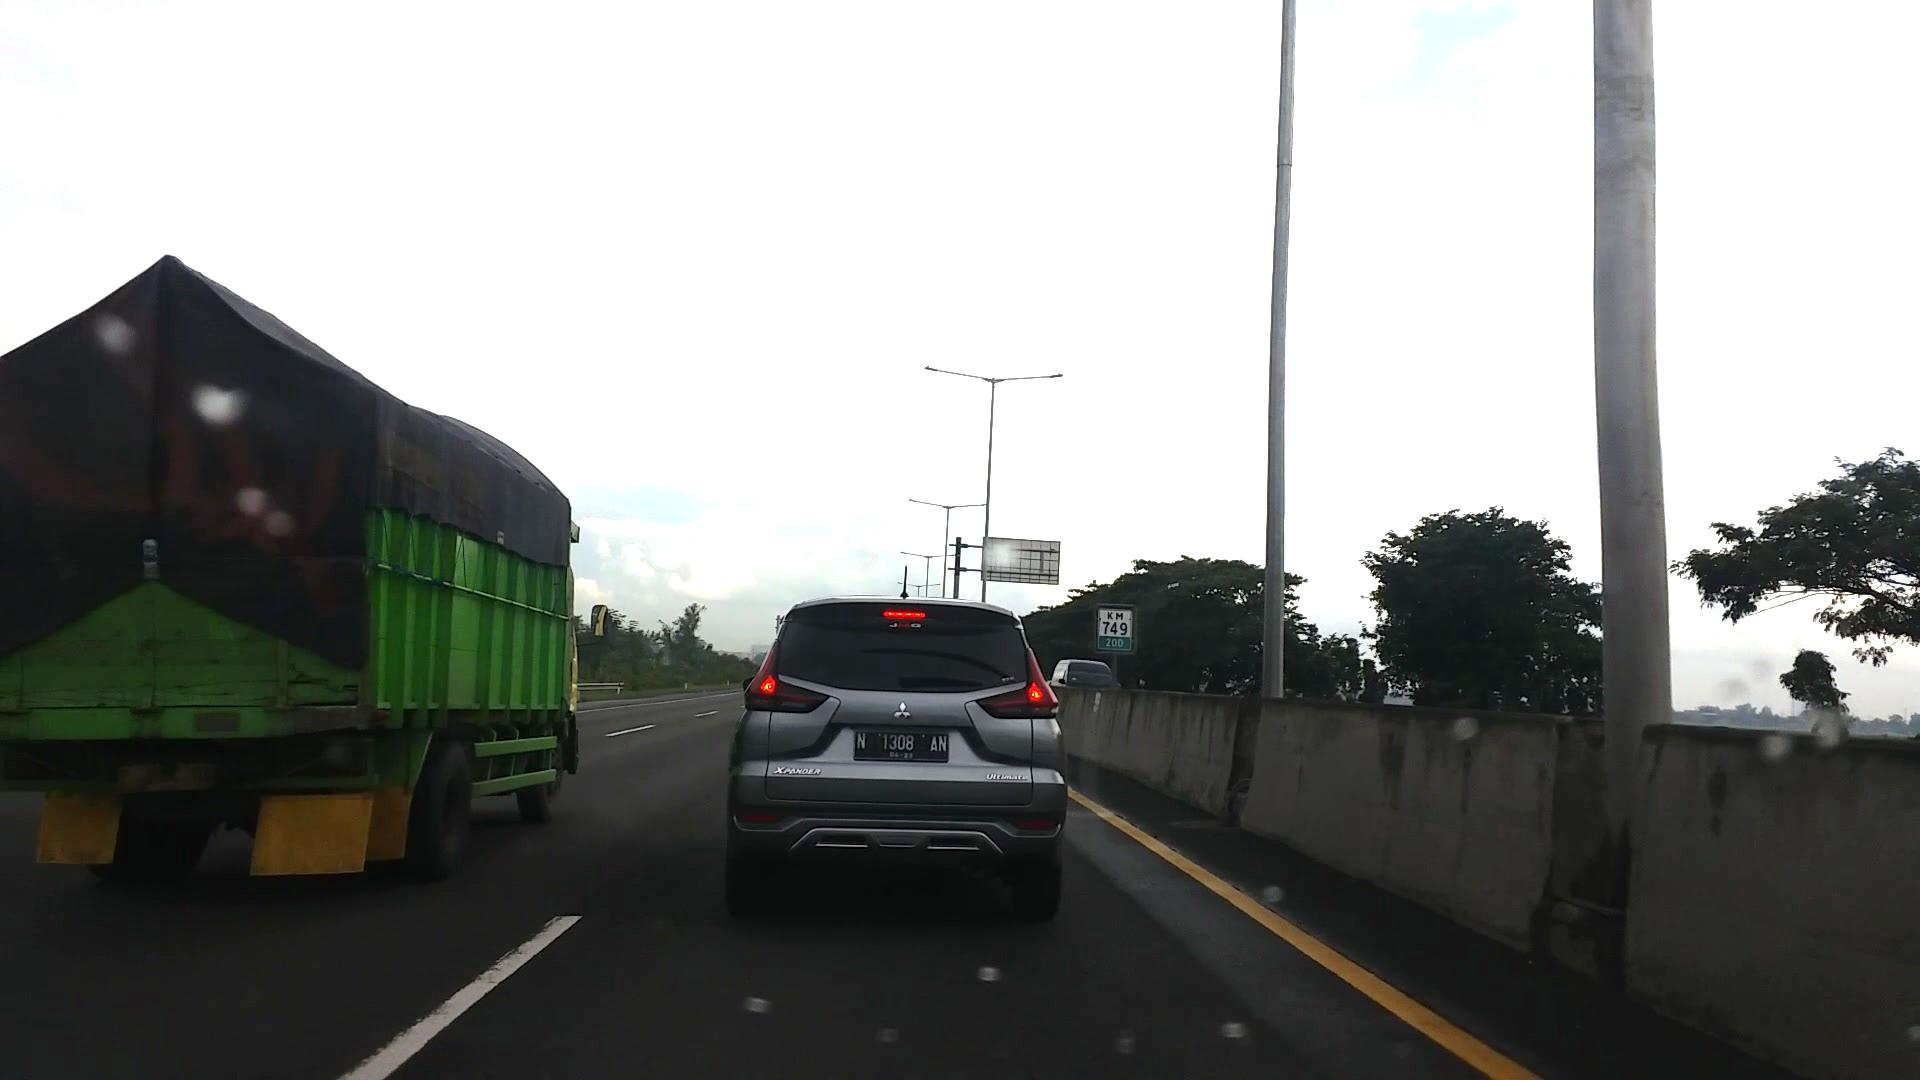plate_positive: (855, 731, 948, 764)
